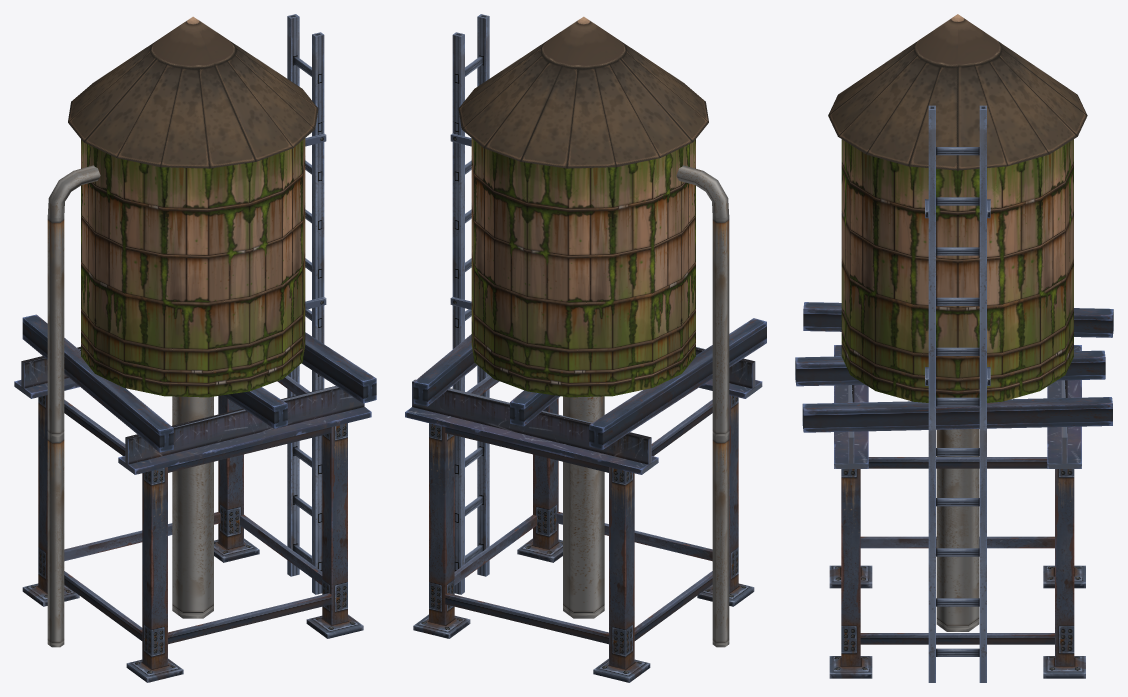
Rendered from TRF0610003.fbx.
3 renders of one model, left to right at view 1: azimuth 30°, elevation 25°; view 2: azimuth 150°, elevation 25°; view 3: azimuth 270°, elevation 25°, orthographic. The views are drawn at different scales.
Visible parts, largest first — view 1: smTRF0610003; view 2: smTRF0610003; view 3: smTRF0610003.
Part boxes in pixels (x1,y1,x2,y2): smTRF0610003: [14, 14, 376, 682]; smTRF0610003: [405, 14, 766, 682]; smTRF0610003: [795, 14, 1113, 682].
Bounding box in the file's own units: 517 × 1123 × 530.
1 material, 1 textured.
